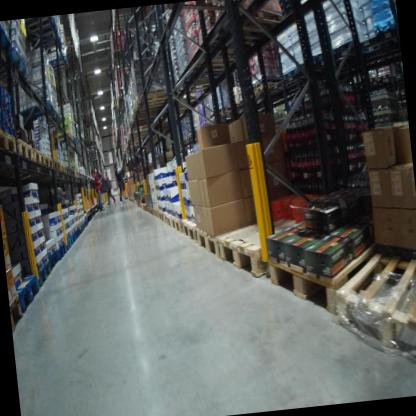pallet: (329, 16, 416, 381), (261, 212, 393, 340), (215, 209, 311, 288), (178, 47, 263, 94), (190, 19, 268, 69), (214, 0, 290, 48), (196, 215, 267, 265), (10, 97, 57, 128), (0, 46, 32, 90), (13, 269, 42, 317), (13, 142, 48, 172), (19, 31, 64, 54), (132, 86, 175, 109), (27, 150, 56, 182), (22, 15, 60, 39), (128, 100, 172, 120), (332, 35, 361, 64), (181, 214, 207, 246), (9, 292, 25, 336), (0, 21, 15, 65), (0, 119, 17, 157), (307, 45, 333, 67), (14, 138, 33, 166), (36, 258, 53, 289), (292, 56, 311, 82), (42, 112, 64, 134), (282, 63, 302, 87), (255, 80, 283, 97), (47, 56, 70, 76), (169, 212, 187, 234), (54, 129, 74, 146), (52, 243, 68, 263), (375, 70, 394, 86), (46, 250, 59, 271), (244, 85, 258, 103), (365, 73, 381, 87), (158, 205, 169, 223), (65, 133, 77, 149), (163, 210, 173, 228), (65, 234, 75, 250), (52, 160, 61, 174), (71, 229, 80, 242), (59, 160, 66, 175), (148, 204, 155, 217), (68, 167, 76, 178), (64, 165, 71, 177), (153, 207, 161, 217), (76, 226, 82, 237), (79, 223, 86, 232), (83, 219, 89, 227)
pallet_truck: (115, 170, 133, 200)
